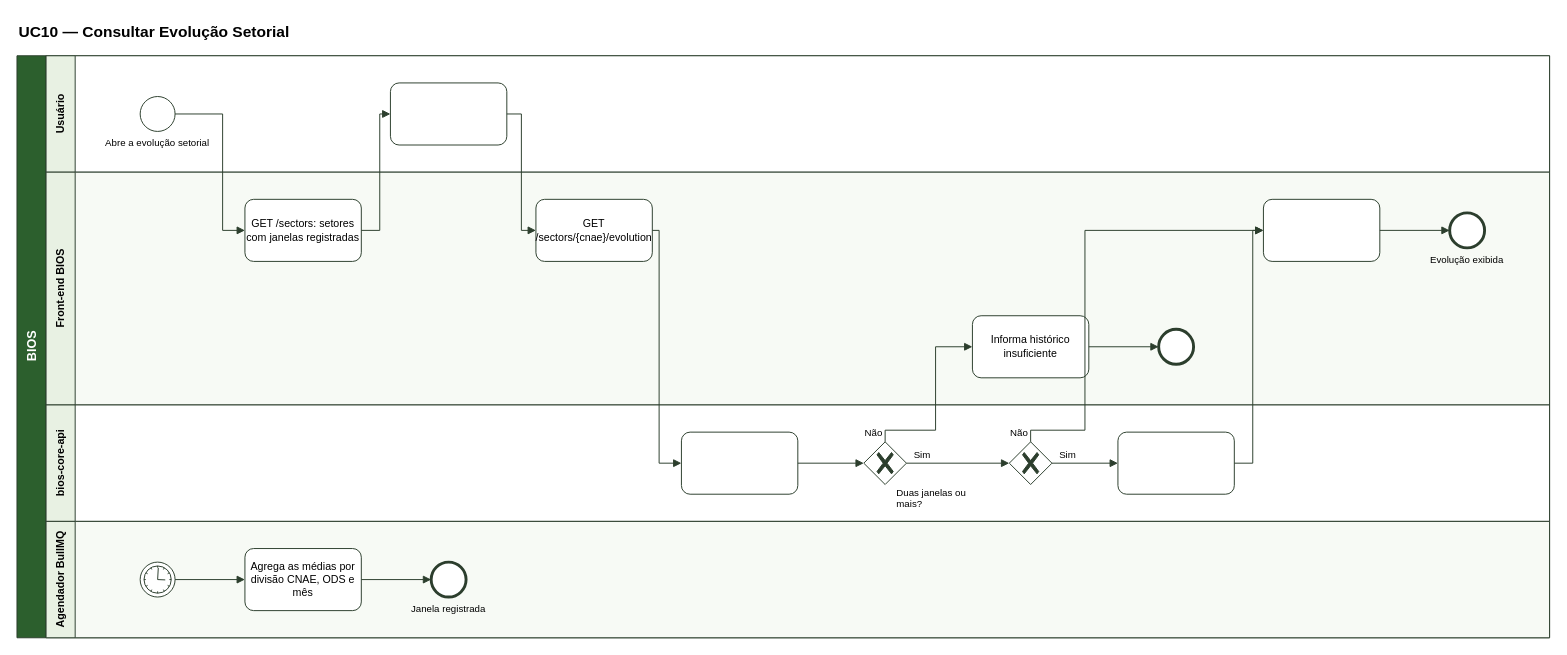
Some shapes in this 1567 by 655 pixel diagram are drawn without their labels. Here are the shapes that lost their labels. From the top down, the centre of each, then its label:
At [448,113]: "Seleciona o setor (CNAE) e o ODS".
At [1321,229]: "Exibe índice médio e confiança média por mês".
At [1176,346]: "Sem evolução".
At [739,462]: "Lê sector_score_snapshots por mês".
At [1030,463]: "Setor abaixo do mínimo de empresas?".
At [1175,462]: "Omite as médias e mantém as contagens".
At [157,579]: "Periodicamente".
